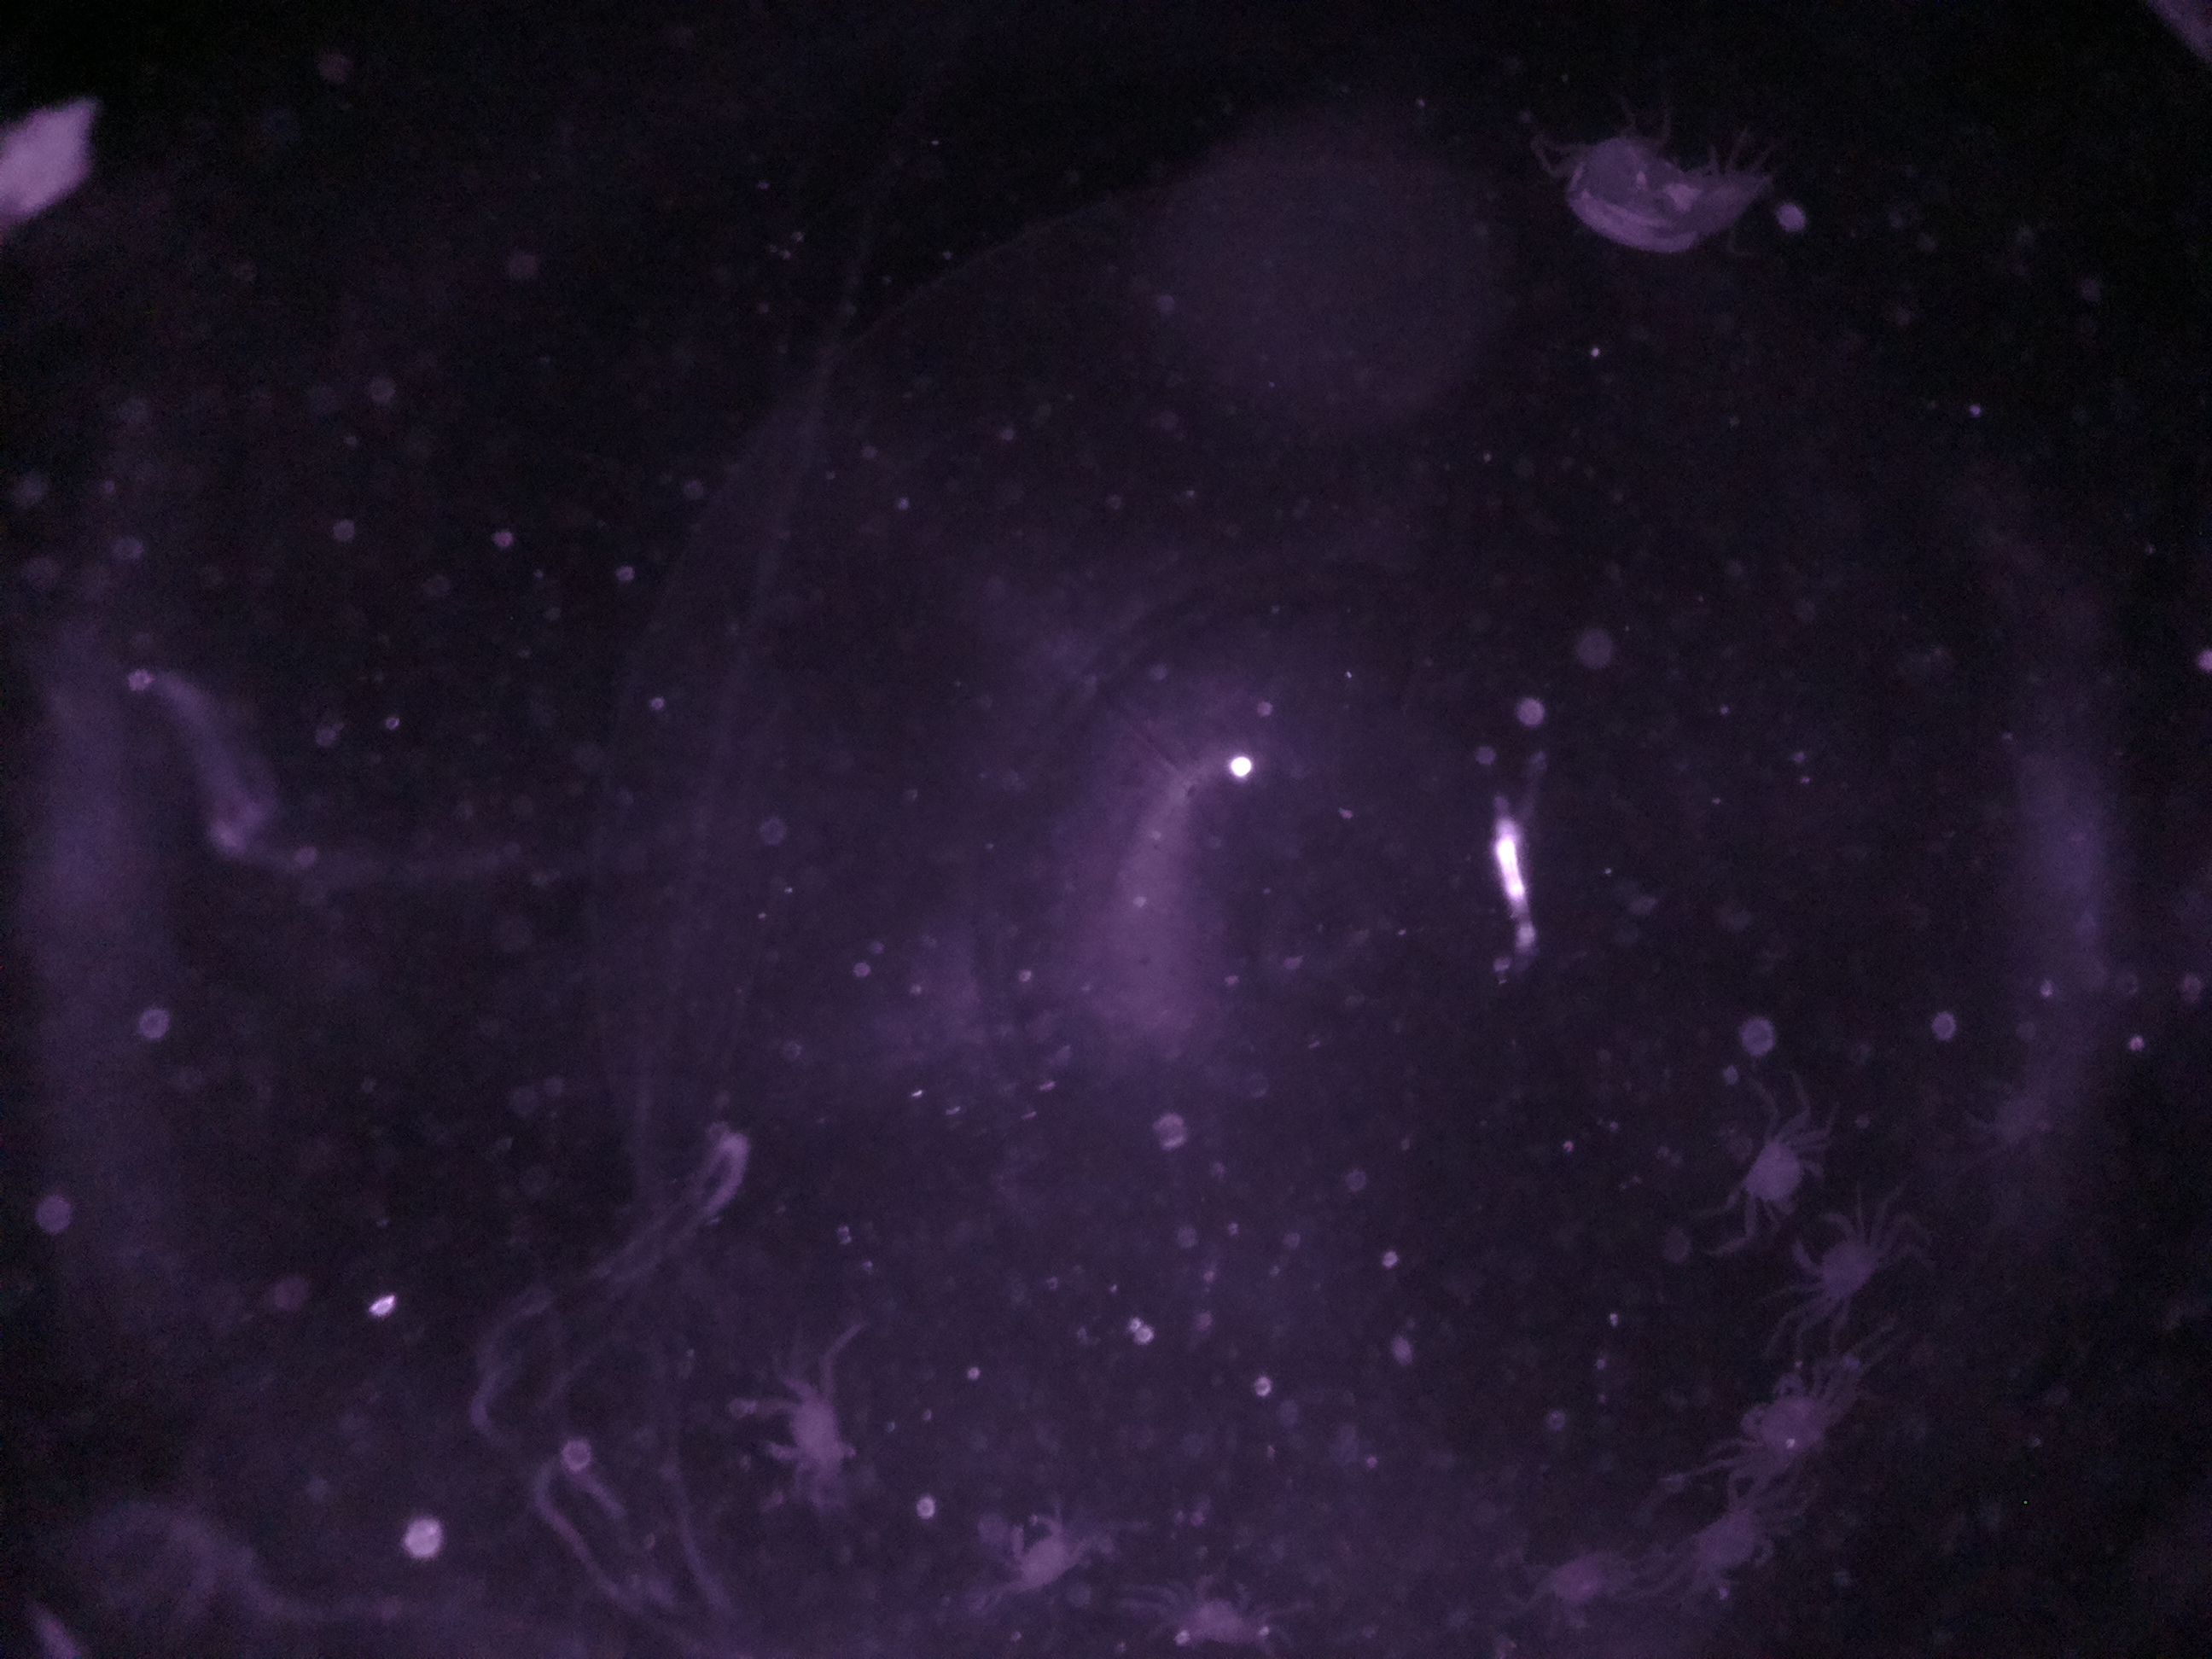Crab: (730, 1378, 876, 1486), (1679, 1493, 1804, 1610), (1728, 1361, 1850, 1476), (993, 1488, 1085, 1615), (1787, 1211, 1893, 1321), (1714, 1121, 1829, 1222)
